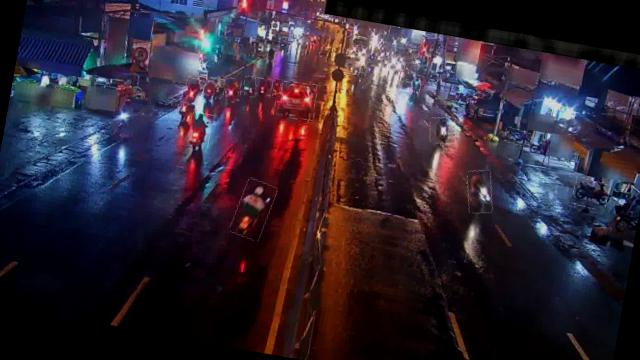Bike: (231, 177, 277, 241), (462, 168, 497, 216), (571, 176, 611, 210), (184, 110, 213, 152), (427, 115, 458, 146), (182, 76, 205, 105), (174, 96, 196, 123), (503, 127, 532, 146), (222, 76, 242, 100), (241, 75, 257, 98), (254, 77, 273, 96), (213, 78, 230, 99), (200, 80, 215, 102), (272, 79, 284, 100), (410, 73, 422, 93)
Car: (272, 78, 318, 121)
